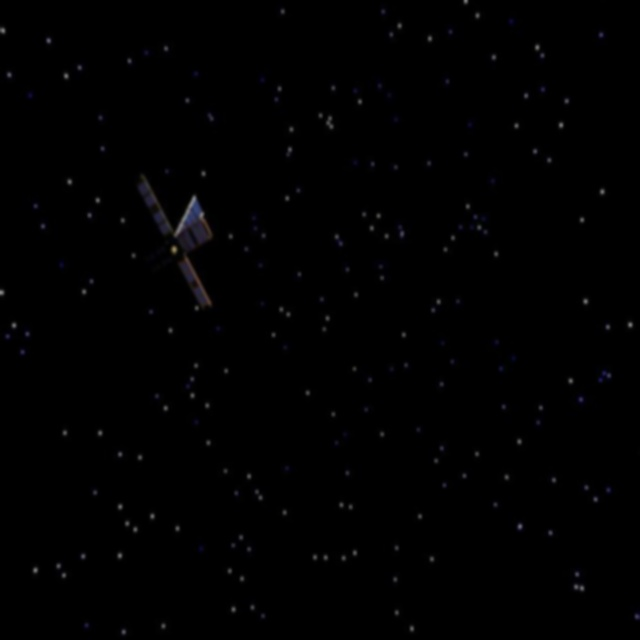satellite: (119, 164, 231, 312)
